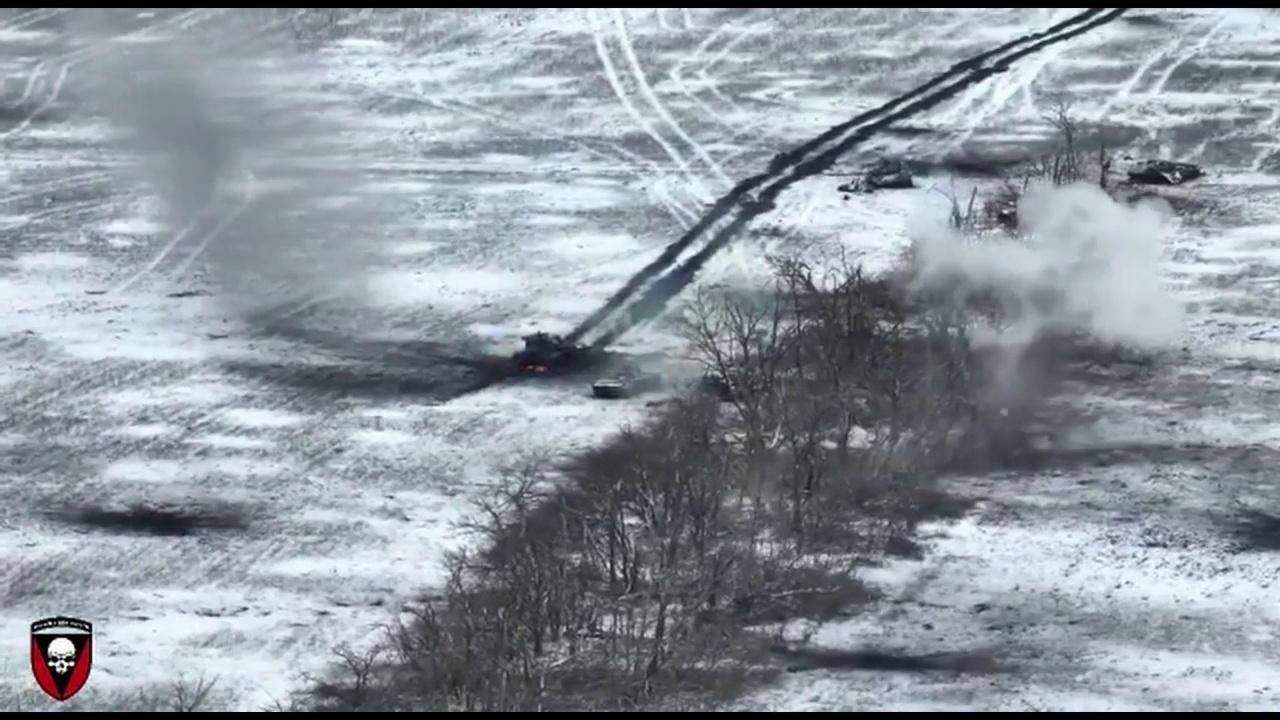vehicle: (518, 333, 588, 375), (590, 362, 659, 399), (1128, 158, 1198, 184), (866, 156, 914, 188)
